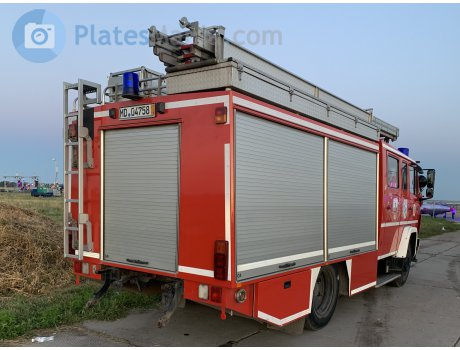License Plates: (122, 106, 161, 119)
